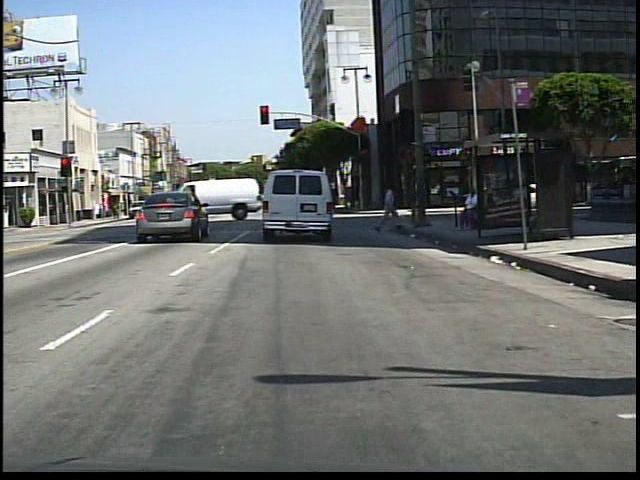person: (376, 179, 402, 235), (458, 186, 482, 234), (140, 193, 154, 218)
